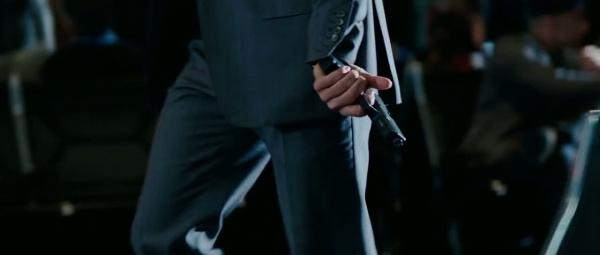Gun: (322, 55, 407, 150)
